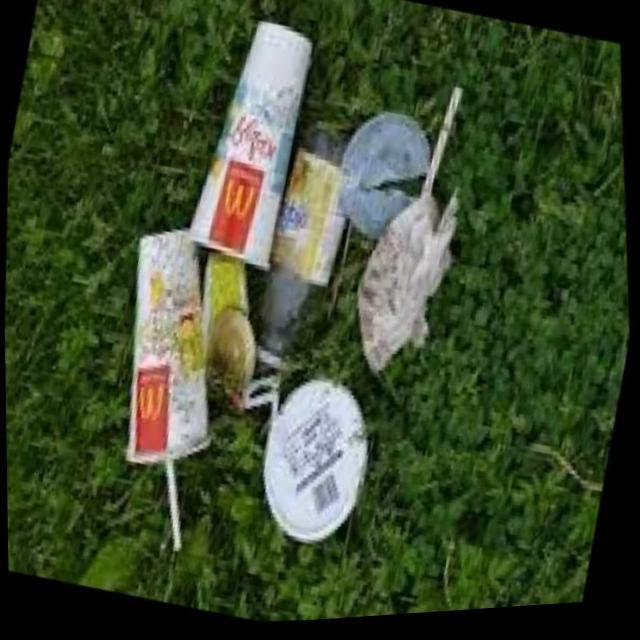leaf: (290, 52, 512, 393), (212, 71, 399, 422), (227, 351, 411, 592)
metal: (60, 208, 268, 582)
trash: (167, 10, 343, 296)
